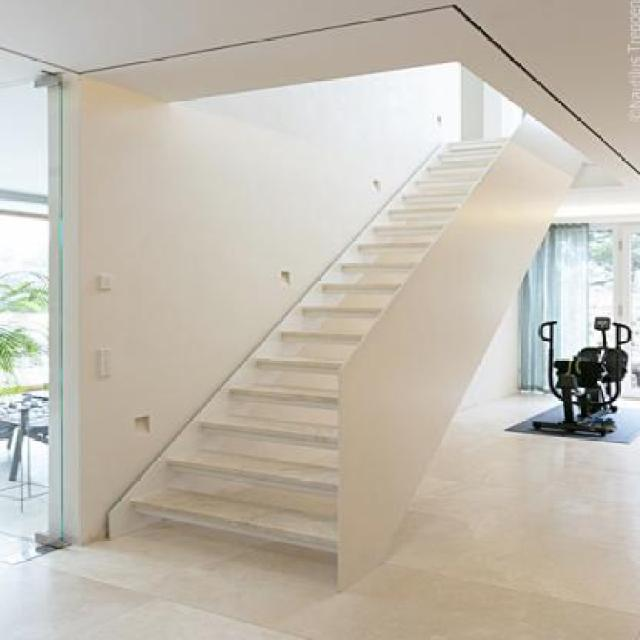stair: (89, 124, 571, 573)
